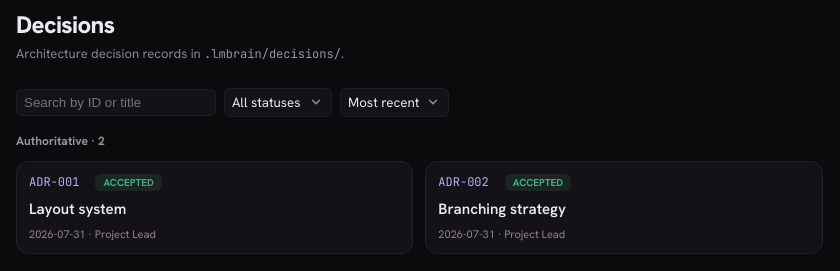
Test case: DecisionsList lifecycle › filters by search and offers a way back
Type "branch" into the search field named "Search decisions" at point(116, 102), box [16,88,216,116]
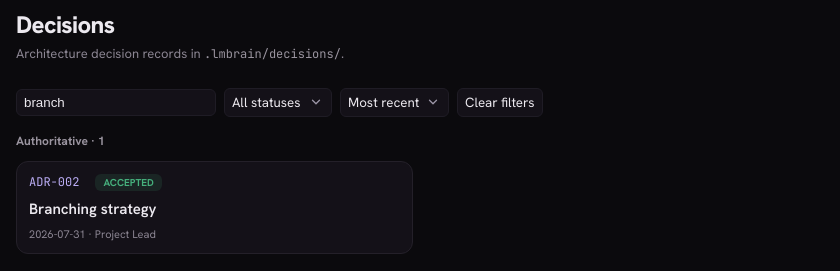
Check: the text "Branching strategy" is shown, box [29,198,156,218]
Check: the button "Layout system" is gone
Click the button "Clear filters" at point(500, 102), box [457,88,542,116]
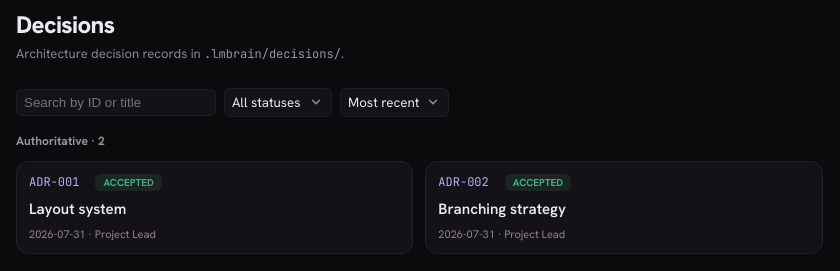
Check: the text "Layout system" is shown, box [29,198,126,218]
